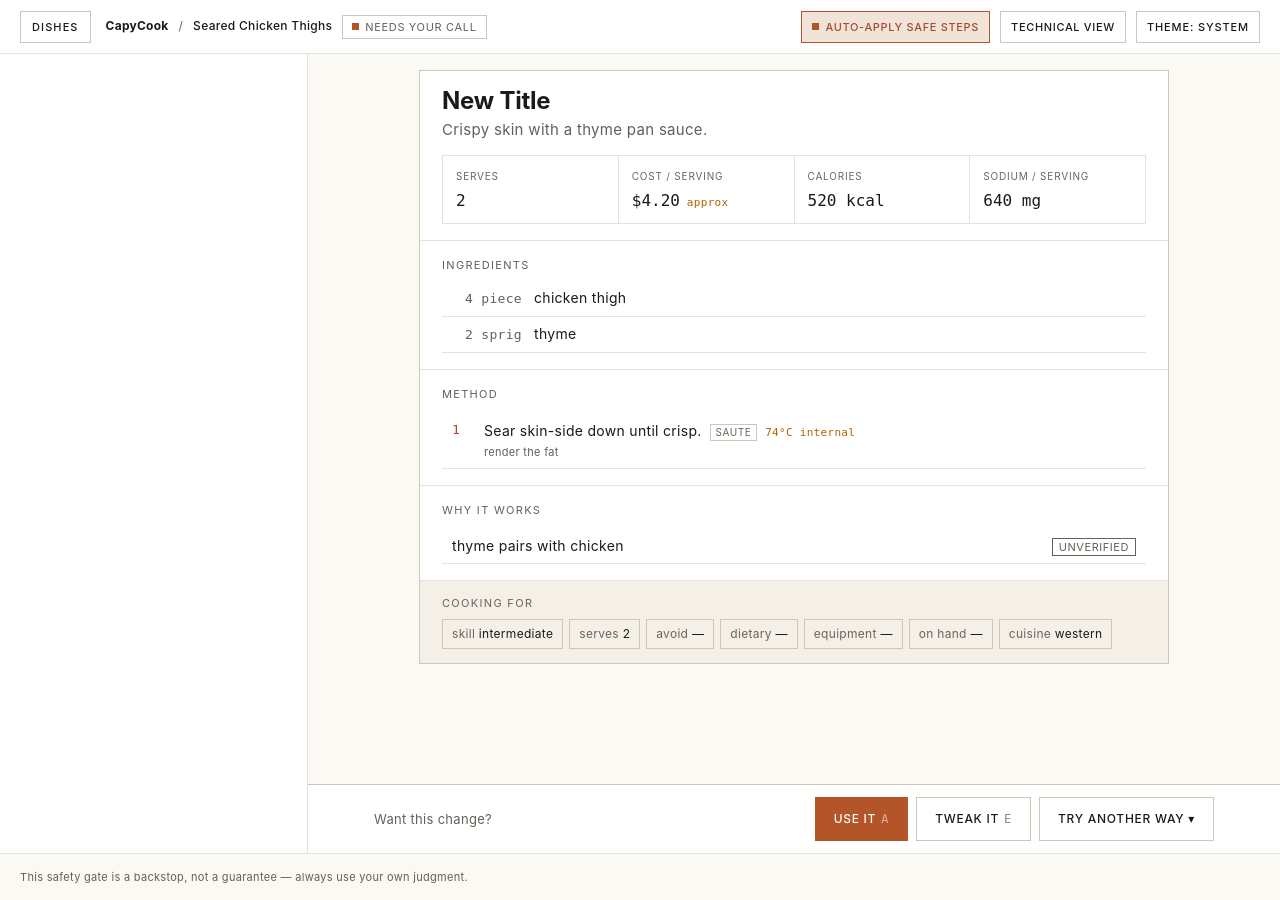
Test case: accept posts the gate verb with the pending proposal id and session header, then flashes a toast
The image size is (1280, 900).
(page scrolled)
Click the button "Use it A" at point(861, 819), box [815,797,908,841]
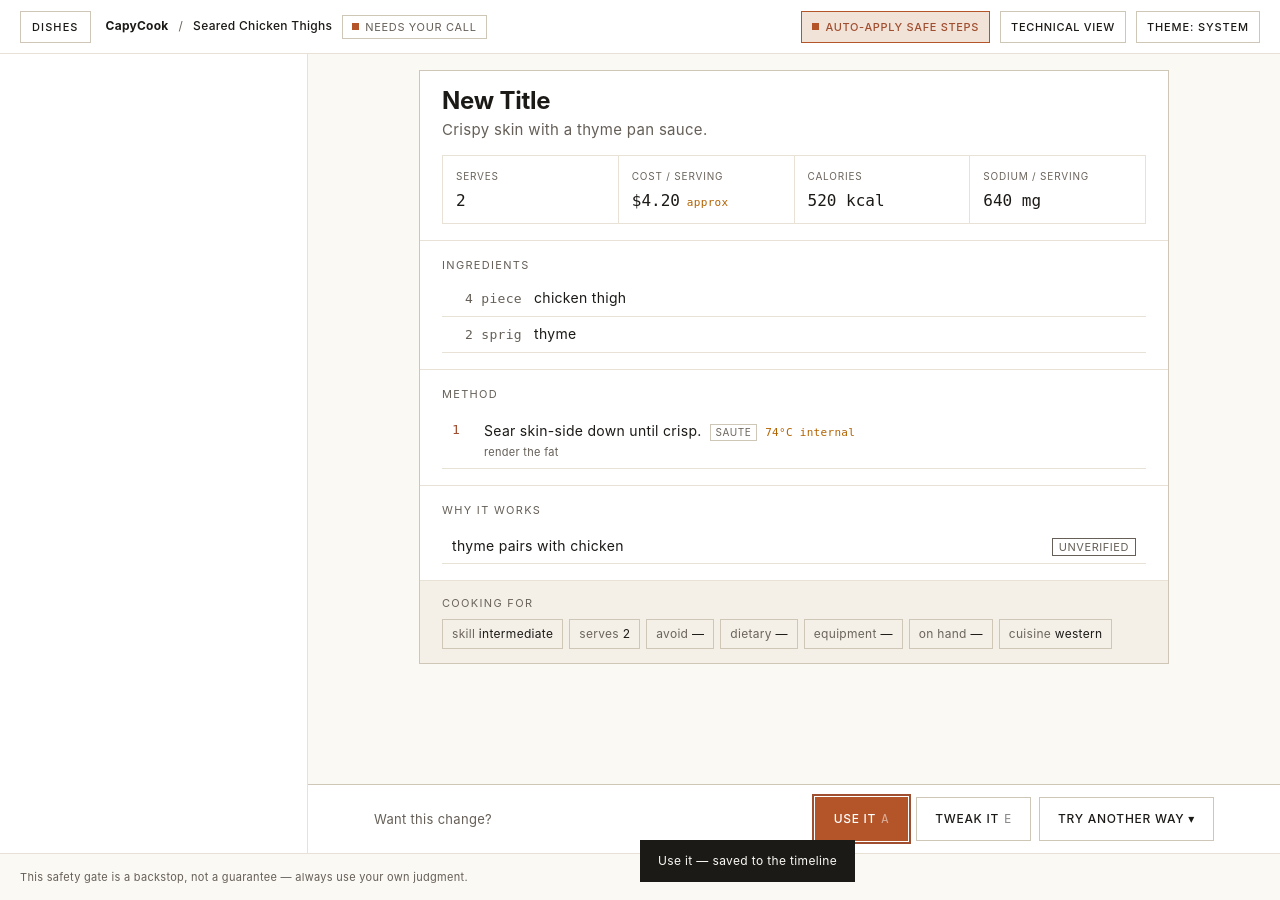
Expected: the message "Use it — saved to the timeline" is shown, [640,840,855,882]
